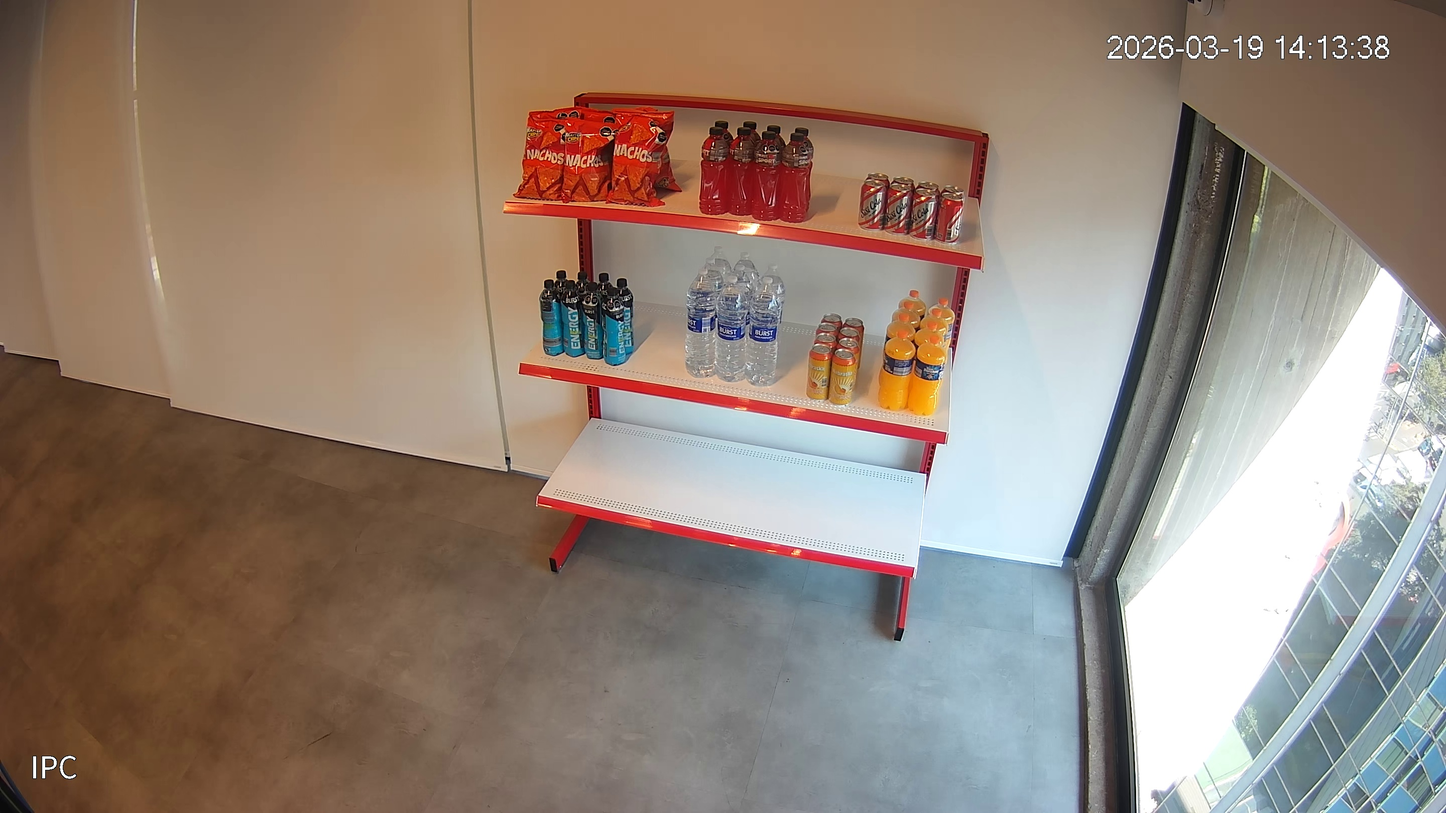agua_burst: (744, 277, 782, 387), (684, 268, 718, 378), (715, 275, 749, 382), (755, 263, 786, 369), (731, 264, 754, 344), (732, 252, 760, 289), (702, 257, 724, 298), (711, 246, 732, 285)
burst_energetica_roja: (699, 126, 728, 215), (795, 127, 814, 212), (766, 125, 786, 152), (715, 121, 734, 148)
burst_energy: (601, 286, 626, 365), (560, 280, 585, 357), (597, 273, 614, 300), (554, 270, 567, 297)
nachos_naturasol: (605, 108, 674, 207), (561, 119, 619, 202), (512, 115, 566, 201), (653, 145, 682, 191), (576, 106, 617, 123), (529, 106, 581, 119)
nebraska_mango: (828, 348, 856, 406), (806, 344, 833, 401), (842, 318, 865, 369), (836, 337, 860, 371), (815, 322, 838, 343), (813, 333, 837, 353), (837, 327, 860, 347), (821, 313, 842, 334)
sisi_cola: (883, 183, 913, 236), (934, 192, 964, 245), (909, 188, 939, 240), (858, 179, 887, 231), (940, 185, 965, 233), (890, 176, 915, 195), (915, 181, 940, 200), (865, 173, 890, 191)
sun_paradise_naranja: (907, 335, 947, 415), (877, 329, 915, 411), (927, 297, 955, 365), (884, 312, 916, 345), (914, 320, 944, 353), (920, 308, 948, 343), (892, 301, 920, 333), (898, 290, 926, 321)
